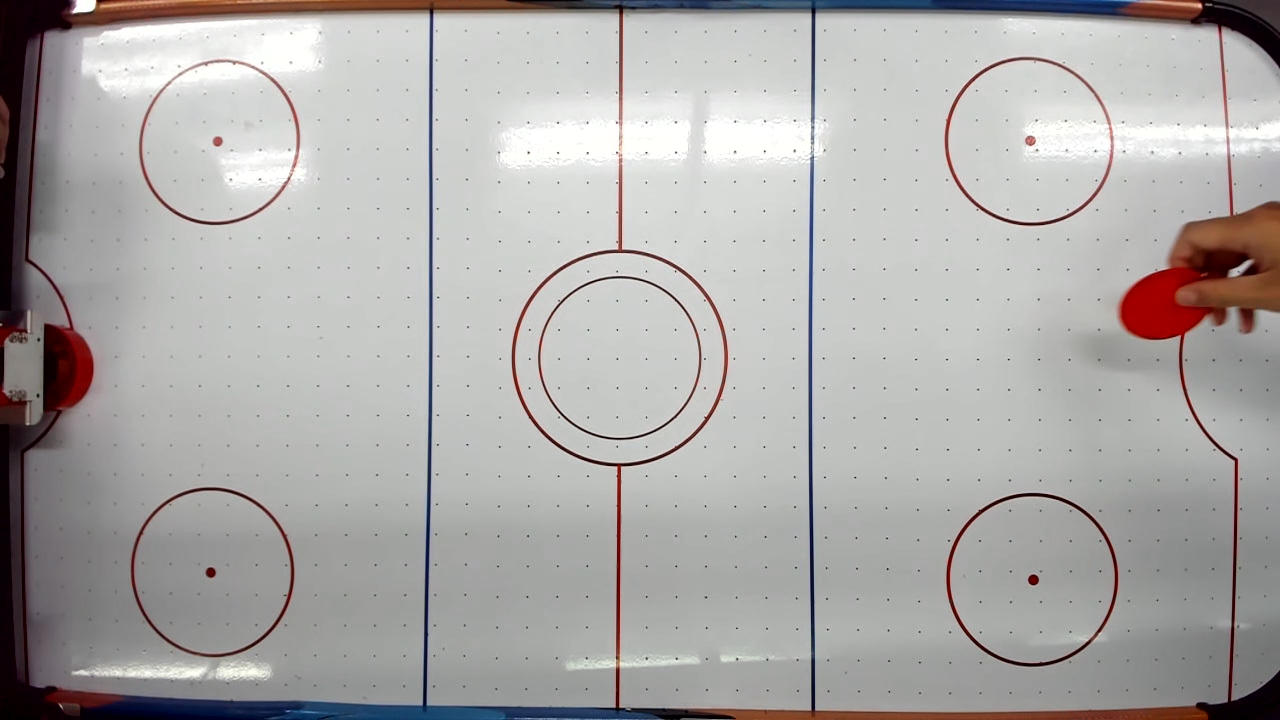ball: (1117, 265, 1201, 349)
